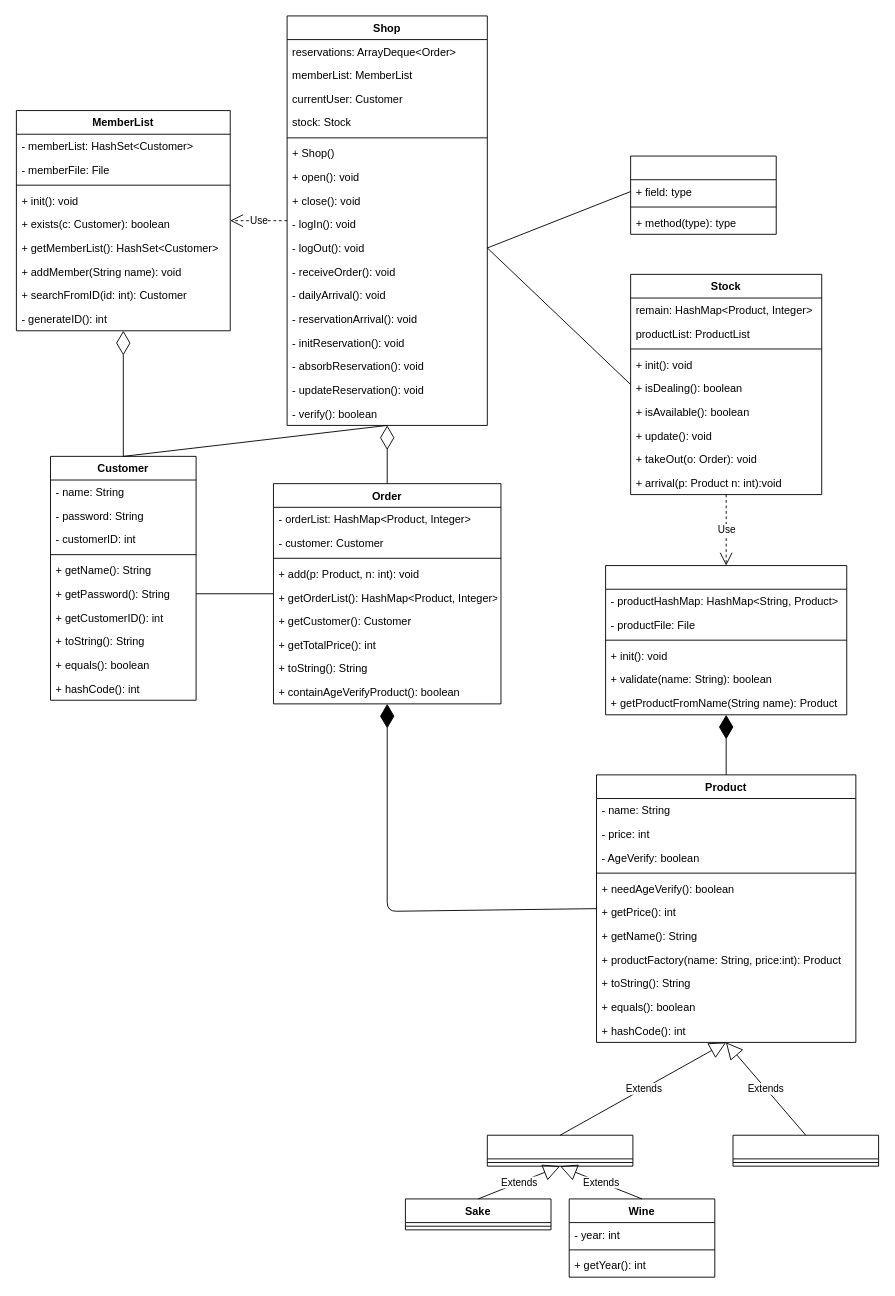
Some shapes in this 895 by 1296 pixel diagram are drawn without their labels. Each missing label, with the box of its shape:
Alcohol: (486, 1134, 633, 1166)
CUI: (630, 155, 776, 234)
OtherProduct: (732, 1134, 879, 1166)
ProductList: (605, 565, 847, 715)
